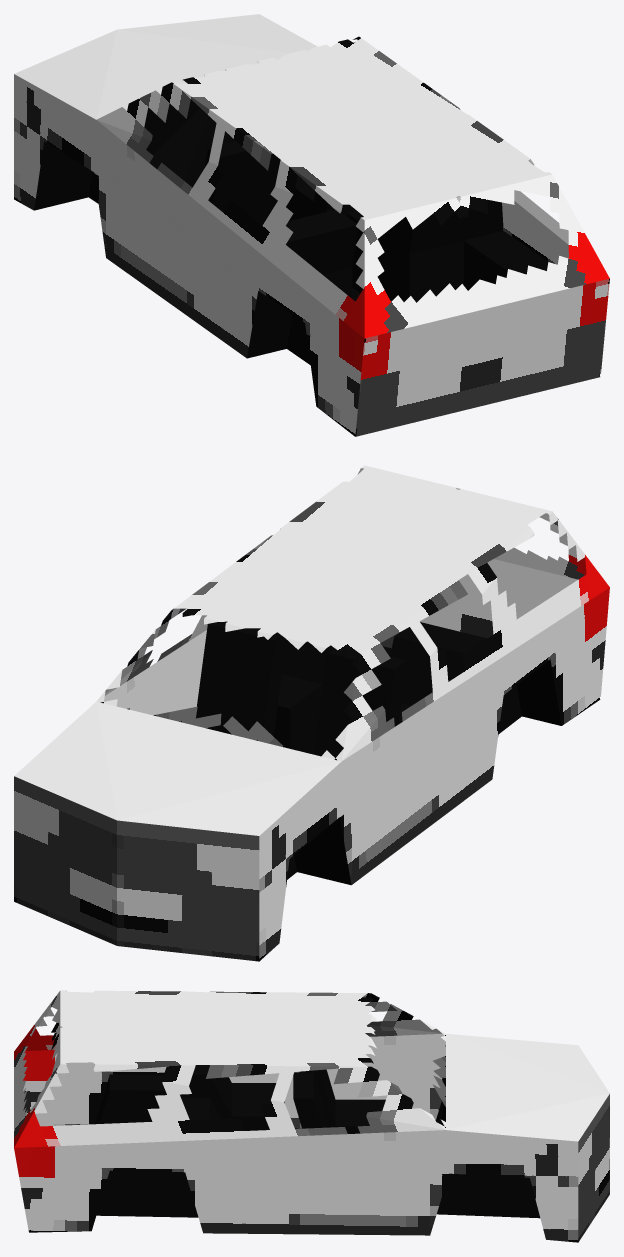
Rendered from chevy_tahoe_body.obj.
The picture shows the model from 3 angles, top to bottom: view 1: azimuth 30°, elevation 25°; view 2: azimuth 150°, elevation 25°; view 3: azimuth 270°, elevation 25°; orthographic projection. The views are drawn at different scales.
Visible parts, largest first — view 1: chevy_tahoe__Plane.001; view 2: chevy_tahoe__Plane.001; view 3: chevy_tahoe__Plane.001.
Part boxes in pixels (left/top/right/bottom): chevy_tahoe__Plane.001: left=14, top=14, right=609, bottom=436; chevy_tahoe__Plane.001: left=14, top=465, right=609, bottom=961; chevy_tahoe__Plane.001: left=14, top=990, right=609, bottom=1242.
Size of the model in its own units: 2 by 1.62 by 5.23.
